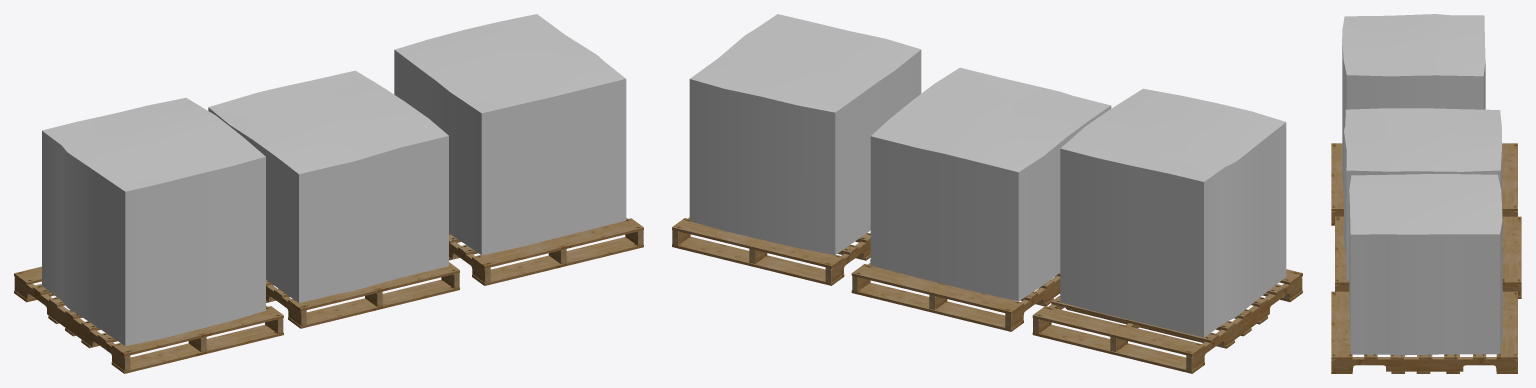
File: Warehouse_Pallet_Triple_1.FBX
3 renders of one model, left to right at view 1: azimuth 30°, elevation 25°; view 2: azimuth 150°, elevation 25°; view 3: azimuth 270°, elevation 25°, orthographic. The views are drawn at different scales.
Parts seen in each view (by area): view 1: Warehouse_Pallet_Triple_1; view 2: Warehouse_Pallet_Triple_1; view 3: Warehouse_Pallet_Triple_1.
Boxes of the visible parts, left/top/right/bottom form: Warehouse_Pallet_Triple_1: left=14, top=14, right=643, bottom=373; Warehouse_Pallet_Triple_1: left=672, top=14, right=1302, bottom=373; Warehouse_Pallet_Triple_1: left=1331, top=14, right=1521, bottom=373.
Size of the model in its own units: 130 by 42.18 by 48.95.
